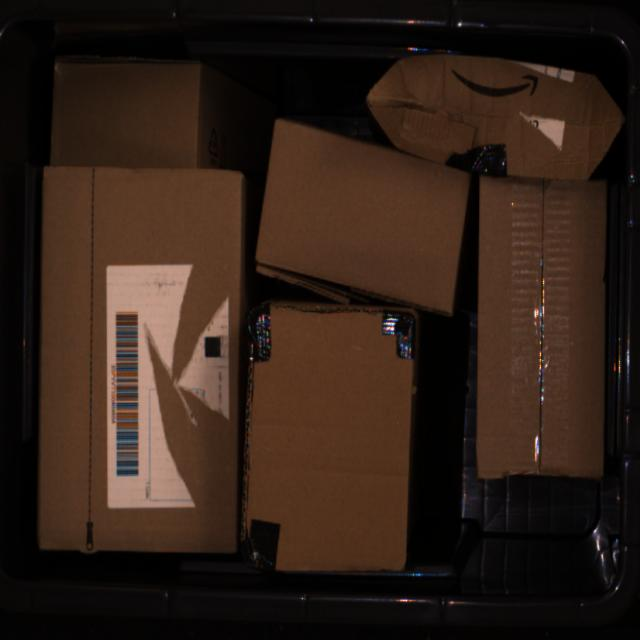Cardboard Box: (36, 160, 246, 557), (244, 294, 420, 575), (253, 113, 472, 315), (474, 171, 608, 481), (365, 47, 624, 179), (48, 52, 253, 167)
